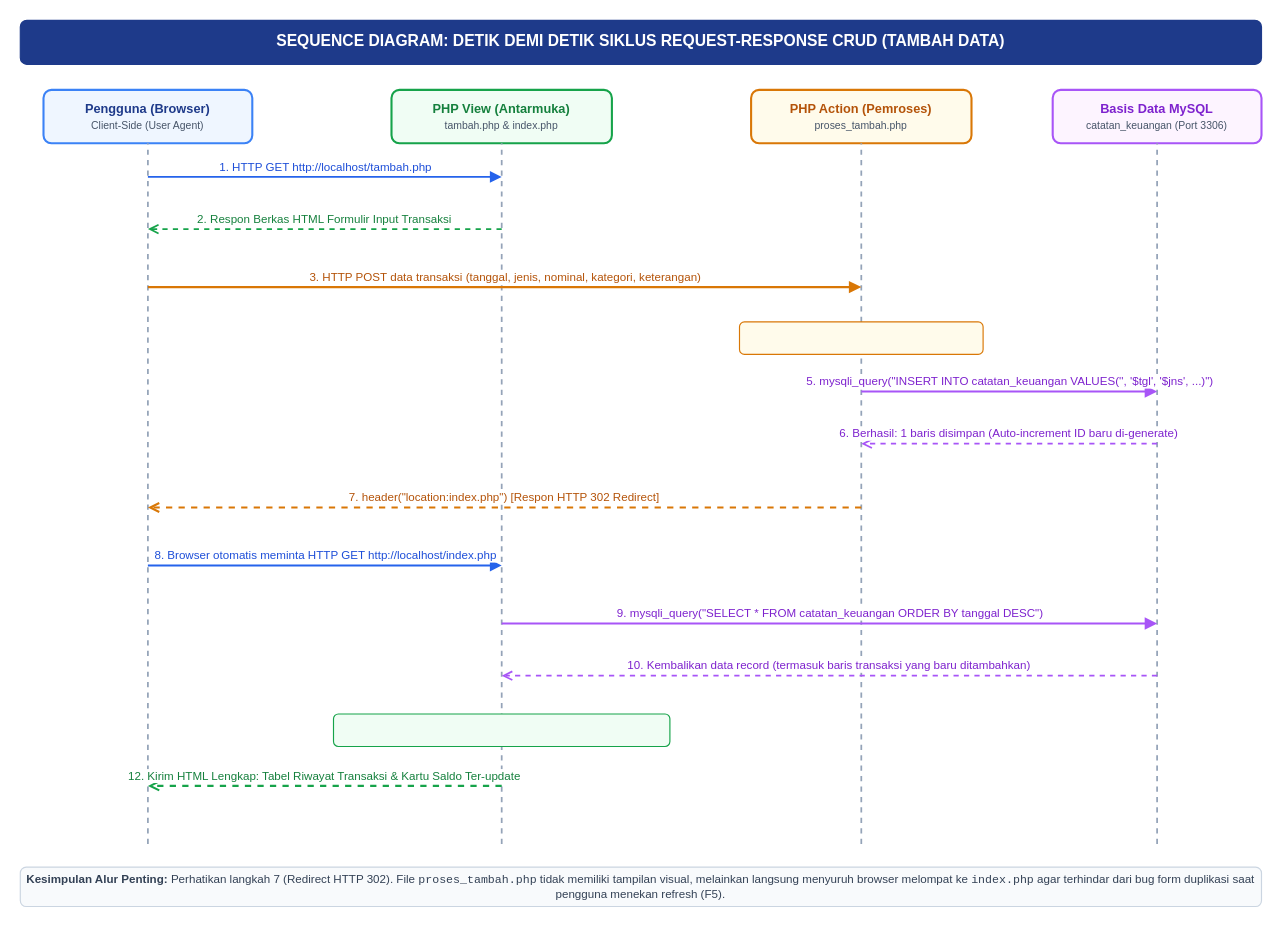
Image size: 1283x927. Some labels were removed from this diagram. Each missing label, with the box of its shape:
11. Loop while ($d = mysqli_fetch_array()): hitung saldo & susun tabel HTML: (332, 713, 670, 746)
4. Tangkap $_POST[...] & Susun Query INSERT: (738, 321, 983, 354)
